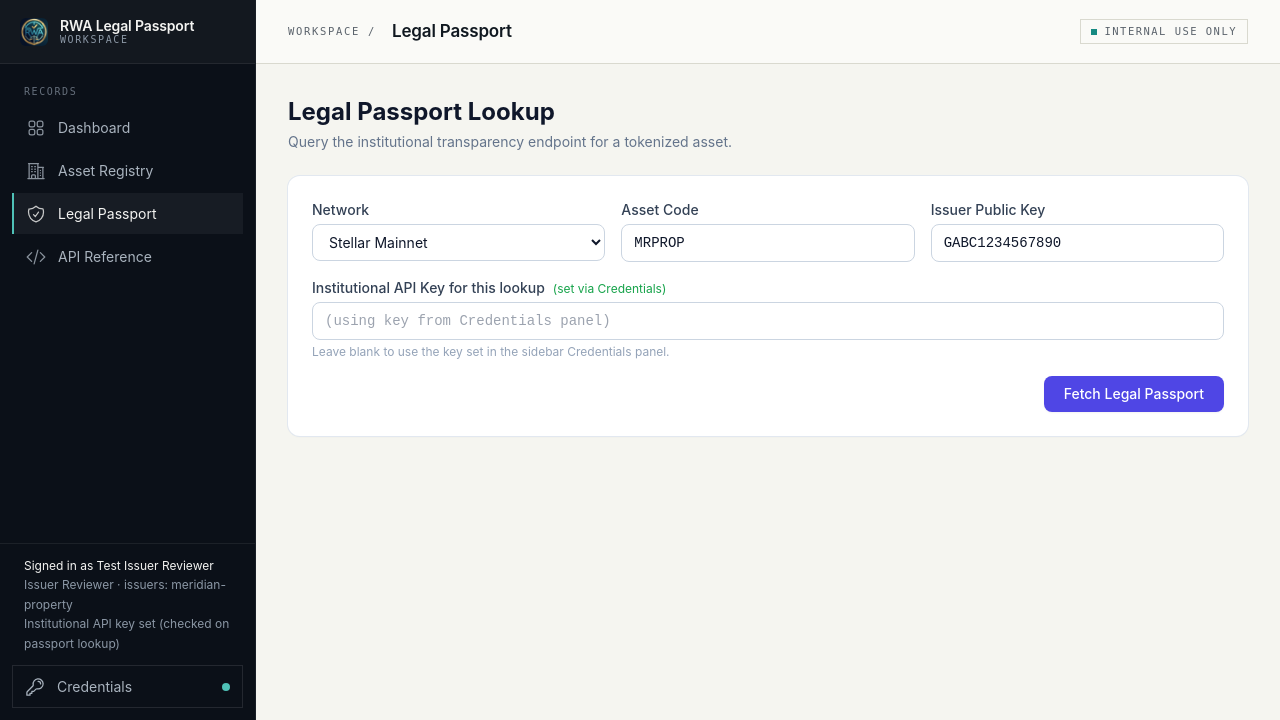
Scenario: Passport History › shows a current passport's approved version and matching anchor
Step 1. Click the button "Fetch Legal Passport" → {"x": 1134, "y": 394}, box [1044,376,1224,412]
(page scrolled)
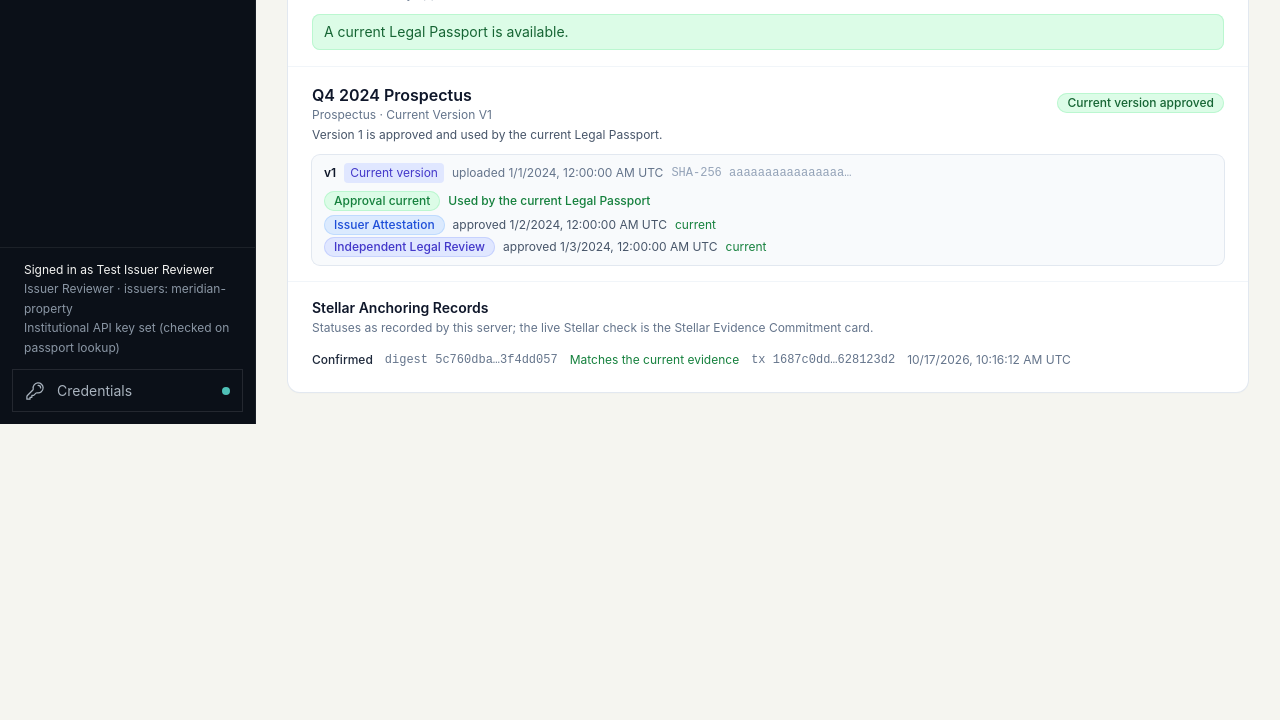
Expected: the text with test id "history-summary" reads "A current Legal Passport is available.", [324,23,569,40]
Expected: the text with test id "history-requirement" reads "Current version approved", [1068,95,1214,110]
Expected: the list item with test id "history-version" shows "Used by the current Legal Passport", [448,193,650,208]
